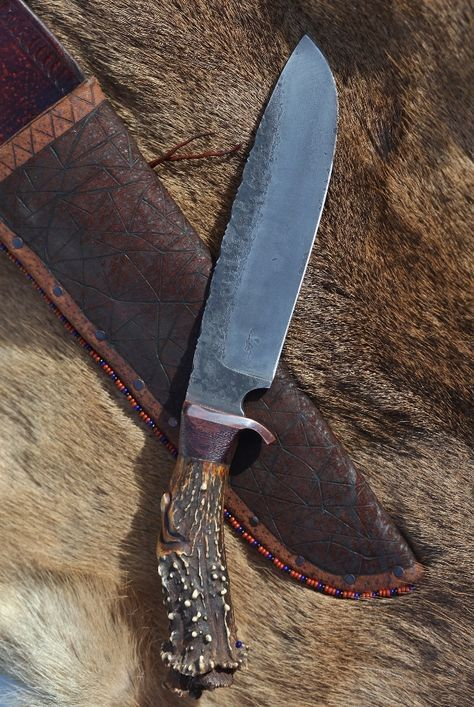knife: (128, 32, 356, 693)
